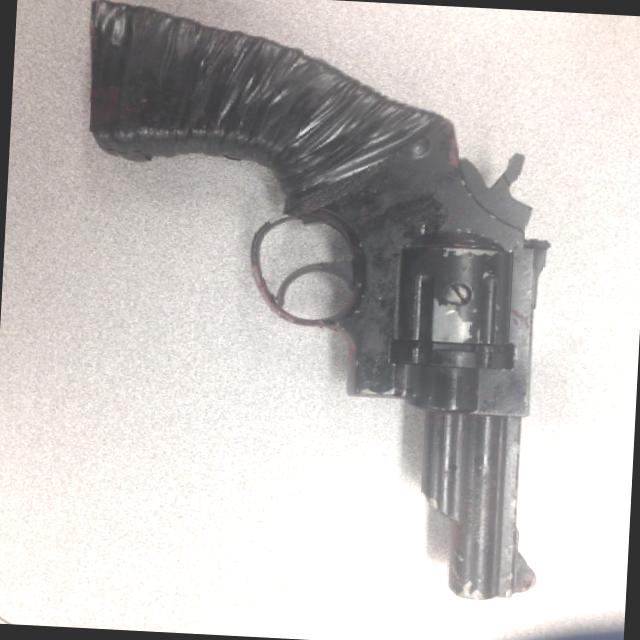handgun: (58, 0, 568, 605)
